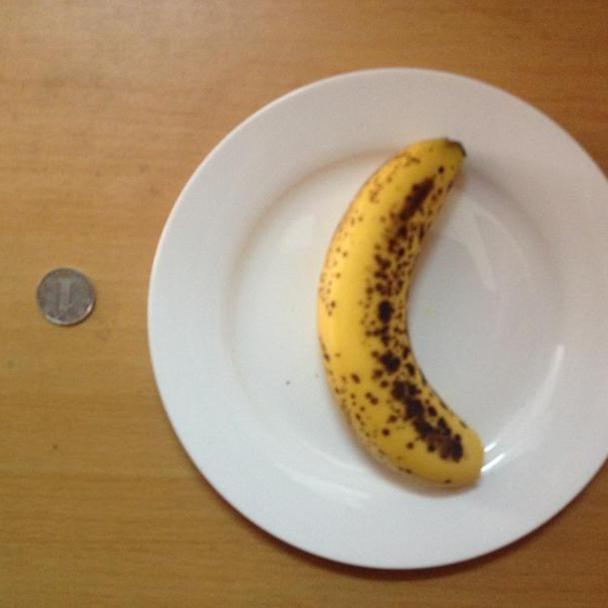banana: (316, 137, 495, 489)
